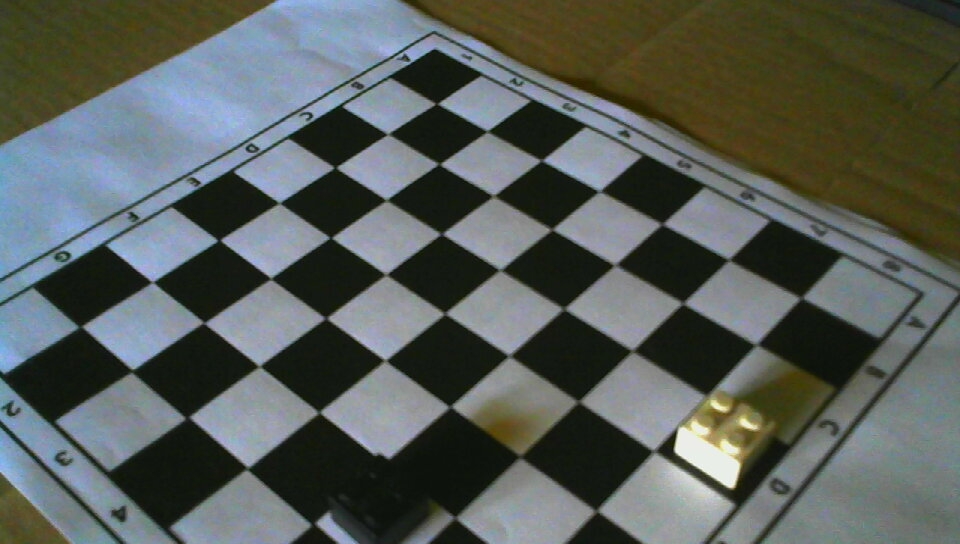bp: (327, 454, 429, 544)
wp: (680, 390, 773, 490)
